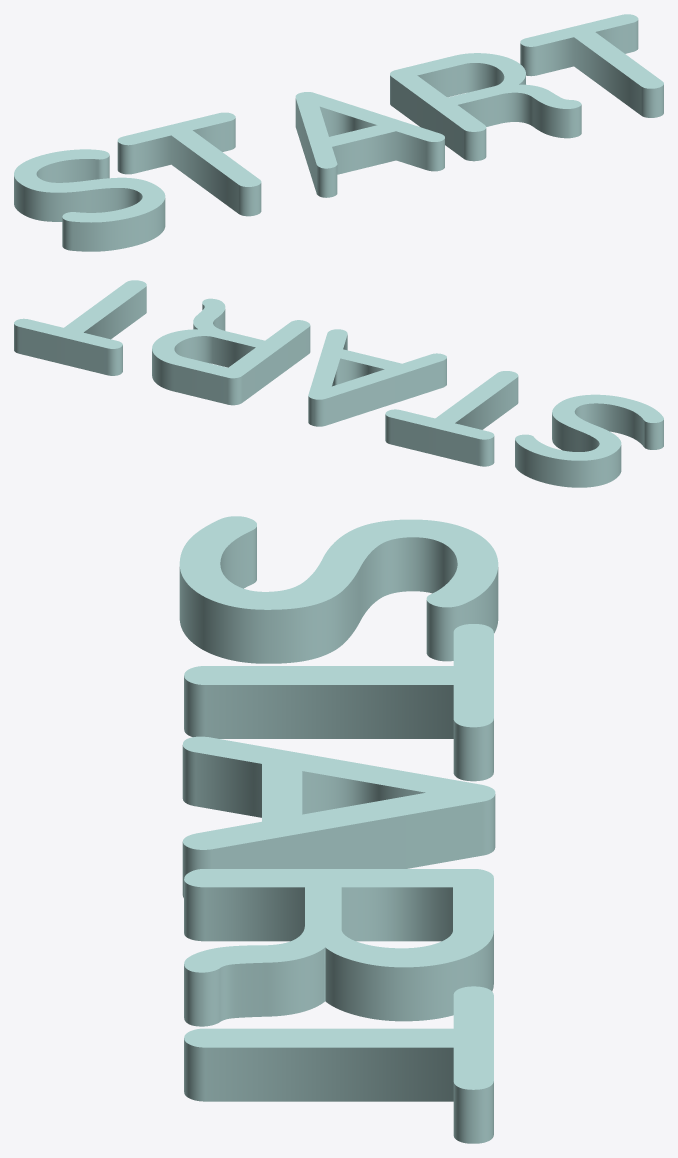
Rendered from Startscreen.2faa2a8c.glb.
The picture shows the model from 3 angles, top to bottom: view 1: azimuth 30°, elevation 25°; view 2: azimuth 150°, elevation 25°; view 3: azimuth 270°, elevation 25°; orthographic projection. The views are drawn at different scales.
Parts seen in each view (by area): view 1: 140; view 2: 140; view 3: 140.
Boxes of the visible parts, x1,y1,x2,y2 form: 140: (14, 14, 663, 251); 140: (14, 280, 663, 487); 140: (179, 516, 498, 1143).
Bounding box in the file's own units: 1.82 × 0.08 × 0.428.
